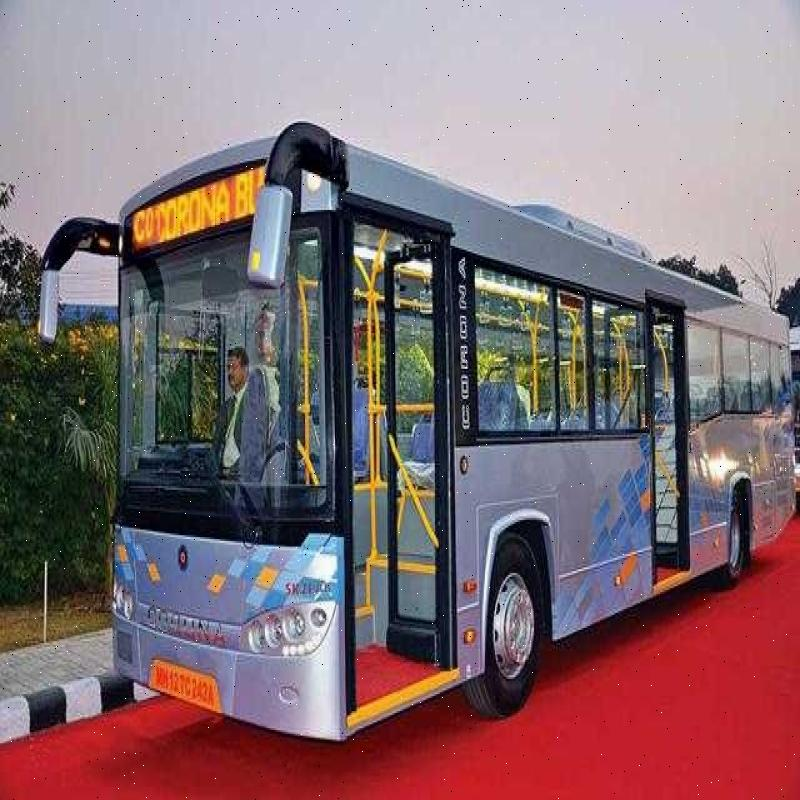bus: (102, 123, 800, 798)
